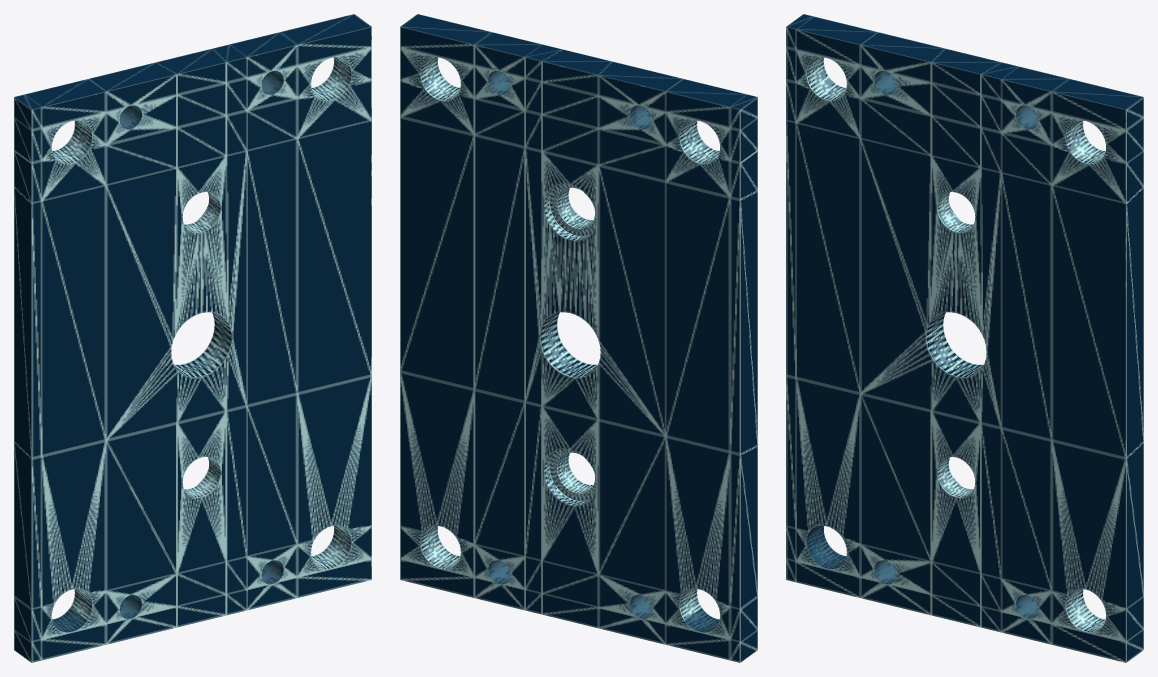
The model's file is Mold4-Punch plate-M.glb.
3 renders of one model, left to right at view 1: azimuth 30°, elevation 25°; view 2: azimuth 150°, elevation 25°; view 3: azimuth 330°, elevation 25°, orthographic.
Parts seen in each view (by area): view 1: GERGTGQ - PORTE POINçon-1; view 2: GERGTGQ - PORTE POINçon-1; view 3: GERGTGQ - PORTE POINçon-1.
Part boxes in pixels (bbox=[...]): GERGTGQ - PORTE POINçon-1: bbox=[14, 14, 371, 662]; GERGTGQ - PORTE POINçon-1: bbox=[400, 14, 757, 662]; GERGTGQ - PORTE POINçon-1: bbox=[786, 14, 1143, 662].
Bounding box in the file's own units: 5.98 × 9.29 × 0.5341.
1 material, 1 textured.
